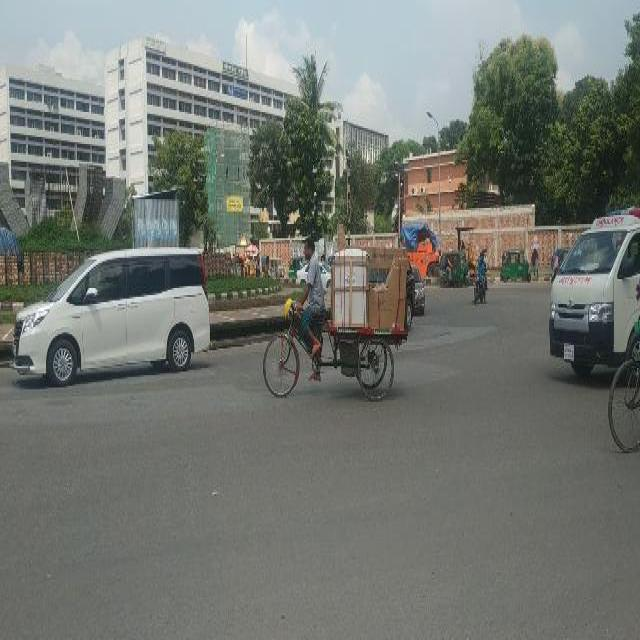ambulance: (547, 202, 639, 388)
bicycle: (440, 270, 460, 288)
minivan: (9, 245, 212, 391)
motorbike: (473, 250, 487, 305)
rickshaw: (260, 252, 268, 278)
three wheelers -CNG-: (499, 246, 531, 284), (270, 253, 284, 280), (459, 251, 469, 286), (288, 257, 296, 280)
wheelbarrow: (262, 301, 410, 403)
